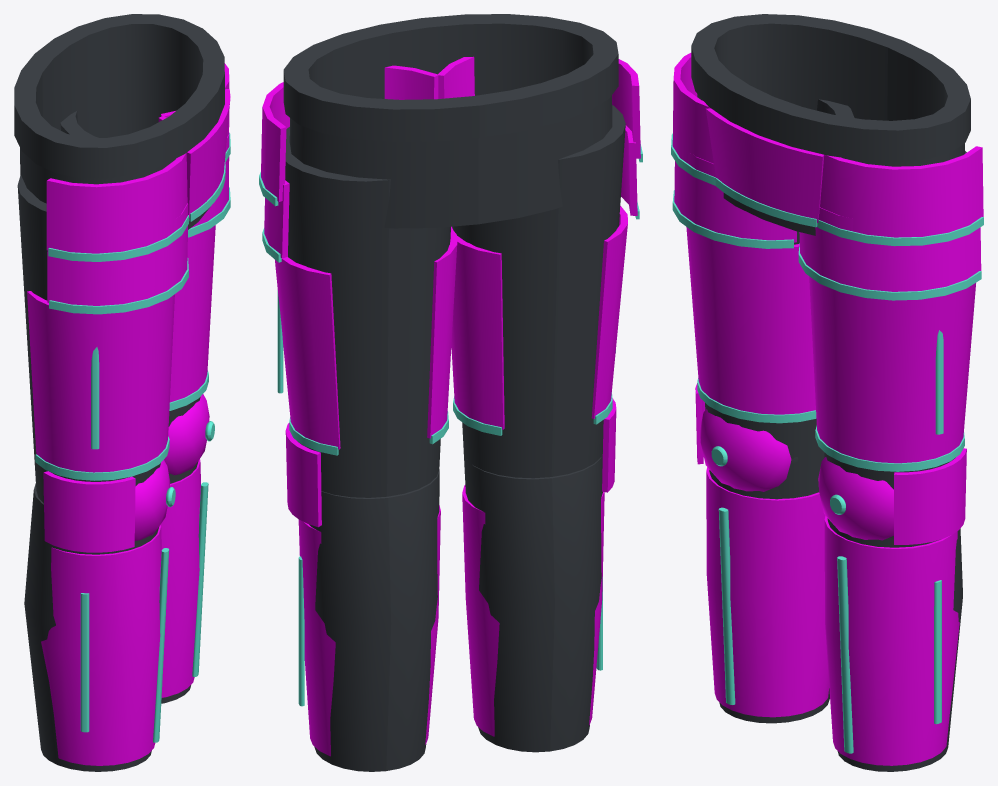
File: objet_armure5_jambieres.glb
3 views of the same model, side by side, from view 1: azimuth 30°, elevation 25°; view 2: azimuth 150°, elevation 25°; view 3: azimuth 270°, elevation 25° (orthographic). The views are drawn at different scales.
Parts seen in each view (by area): view 1: cuisse_d__jambieres_teinte.010, jambe_d__jambieres_teinte.010, bassin__jambieres_teinte_sombre.008, jambe_g__jambieres_teinte.010, cuisse_g__jambieres_teinte.010, jambe_d__jambieres_teinte_sombre.008, cuisse_d__jambieres_nano_lueur.002, cuisse_d__jambieres_teinte_sombre.008, jambe_d__jambieres_nano_lueur.002, bassin__jambieres_teinte.010, jambe_g__jambieres_nano_lueur.002, cuisse_g__jambieres_nano_lueur.002 (+2 smaller); view 2: bassin__jambieres_teinte_sombre.008, cuisse_g__jambieres_teinte_sombre.008, cuisse_d__jambieres_teinte_sombre.008, jambe_d__jambieres_teinte_sombre.008, jambe_g__jambieres_teinte_sombre.008, cuisse_g__jambieres_teinte.010, cuisse_d__jambieres_teinte.010, jambe_g__jambieres_teinte.010, jambe_d__jambieres_teinte.010, cuisse_g__jambieres_nano_lueur.002, jambe_g__jambieres_nano_lueur.002, cuisse_d__jambieres_nano_lueur.002; view 3: cuisse_g__jambieres_teinte.010, jambe_g__jambieres_teinte.010, bassin__jambieres_teinte_sombre.008, jambe_d__jambieres_teinte.010, cuisse_d__jambieres_teinte.010, bassin__jambieres_teinte.010, cuisse_g__jambieres_nano_lueur.002, cuisse_d__jambieres_teinte_sombre.008, jambe_g__jambieres_nano_lueur.002, cuisse_d__jambieres_nano_lueur.002, jambe_d__jambieres_nano_lueur.002, jambe_g__jambieres_teinte_sombre.008 (+3 smaller).
Boxes of the visible parts, x1,y1,x2,y2 form: cuisse_d__jambieres_teinte.010: (27, 116, 188, 472); jambe_d__jambieres_teinte.010: (41, 460, 170, 765); bassin__jambieres_teinte_sombre.008: (14, 14, 224, 229); jambe_g__jambieres_teinte.010: (160, 394, 209, 697); cuisse_g__jambieres_teinte.010: (161, 63, 229, 402); jambe_d__jambieres_teinte_sombre.008: (24, 483, 158, 771); cuisse_d__jambieres_nano_lueur.002: (35, 215, 188, 480); cuisse_d__jambieres_teinte_sombre.008: (17, 175, 160, 554); jambe_d__jambieres_nano_lueur.002: (80, 487, 175, 742); bassin__jambieres_teinte.010: (186, 88, 230, 217); jambe_g__jambieres_nano_lueur.002: (192, 421, 214, 676); cuisse_g__jambieres_nano_lueur.002: (169, 133, 230, 410); bassin__jambieres_teinte_sombre.008: (283, 14, 618, 228); cuisse_g__jambieres_teinte_sombre.008: (285, 127, 450, 497); cuisse_d__jambieres_teinte_sombre.008: (452, 105, 625, 491); jambe_d__jambieres_teinte_sombre.008: (465, 453, 602, 752); jambe_g__jambieres_teinte_sombre.008: (309, 469, 439, 771); cuisse_g__jambieres_teinte.010: (261, 65, 457, 449); cuisse_d__jambieres_teinte.010: (437, 56, 640, 429); jambe_g__jambieres_teinte.010: (285, 423, 440, 756); jambe_d__jambieres_teinte.010: (462, 398, 616, 736); cuisse_g__jambieres_nano_lueur.002: (259, 172, 448, 455); jambe_g__jambieres_nano_lueur.002: (298, 556, 304, 706); cuisse_d__jambieres_nano_lueur.002: (453, 144, 642, 435); cuisse_g__jambieres_teinte.010: (799, 146, 983, 463); jambe_g__jambieres_teinte.010: (818, 448, 966, 765); bassin__jambieres_teinte_sombre.008: (691, 14, 970, 235); jambe_d__jambieres_teinte.010: (695, 383, 829, 717); cuisse_d__jambieres_teinte.010: (672, 53, 815, 414); bassin__jambieres_teinte.010: (706, 108, 824, 222); cuisse_g__jambieres_nano_lueur.002: (798, 217, 983, 471); cuisse_d__jambieres_teinte_sombre.008: (705, 99, 854, 498); jambe_g__jambieres_nano_lueur.002: (830, 494, 941, 753); cuisse_d__jambieres_nano_lueur.002: (671, 133, 816, 423); jambe_d__jambieres_nano_lueur.002: (711, 446, 735, 704); jambe_g__jambieres_teinte_sombre.008: (827, 518, 962, 771).
Size of the model in its own units: 0.133 by 0.3113 by 0.1351.
